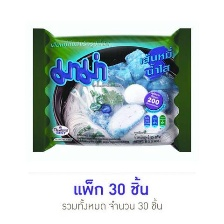snack: (24, 21, 199, 159)
